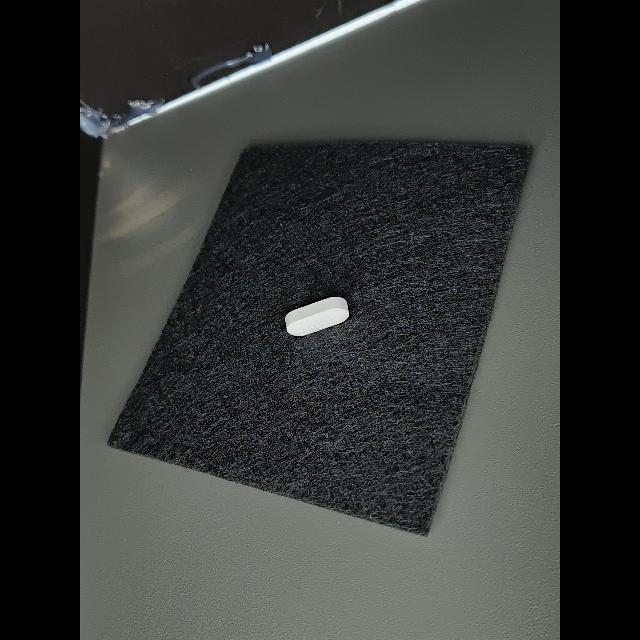Intact Pill: (285, 297, 349, 336)
